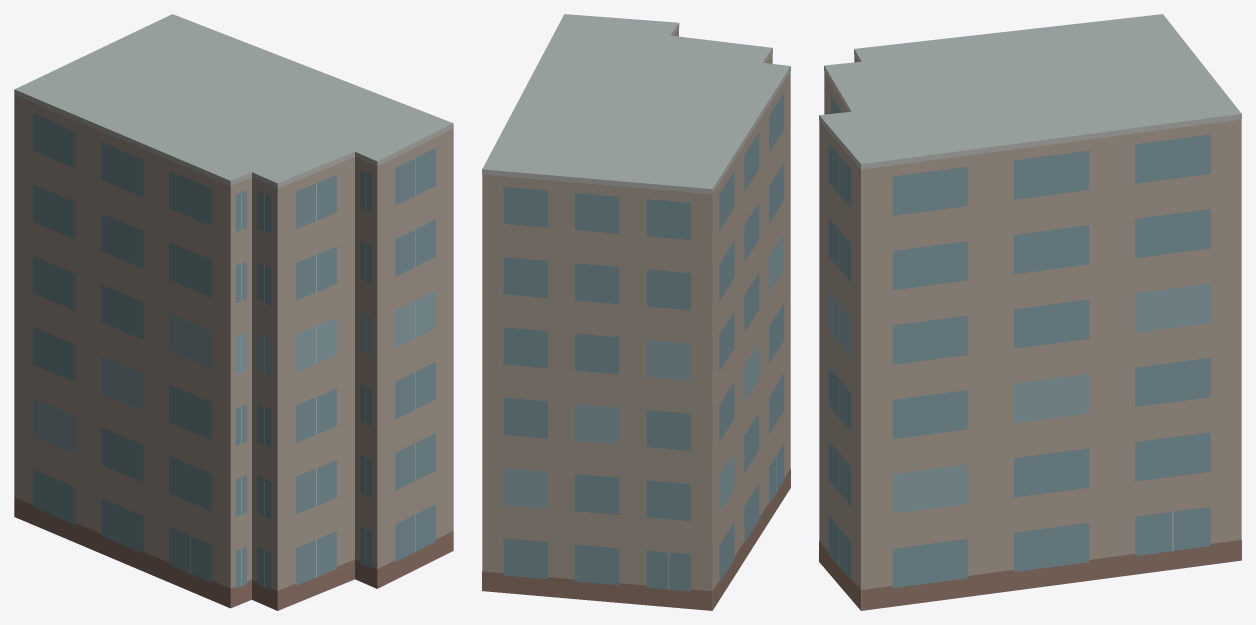
Rendered from survey-upis-32648665.glb.
The picture shows the model from 3 angles, left to right: view 1: azimuth 30°, elevation 25°; view 2: azimuth 150°, elevation 25°; view 3: azimuth 270°, elevation 25°; orthographic projection. The views are drawn at different scales.
Parts seen in each view (by area): view 1: survey-upis-32648665.tmp; view 2: survey-upis-32648665.tmp; view 3: survey-upis-32648665.tmp.
Boxes of the visible parts, x1,y1,x2,y2 form: survey-upis-32648665.tmp: [14, 14, 453, 610]; survey-upis-32648665.tmp: [482, 14, 790, 610]; survey-upis-32648665.tmp: [819, 14, 1241, 610].
Size of the model in its own units: 14.43 by 20 by 17.16.
